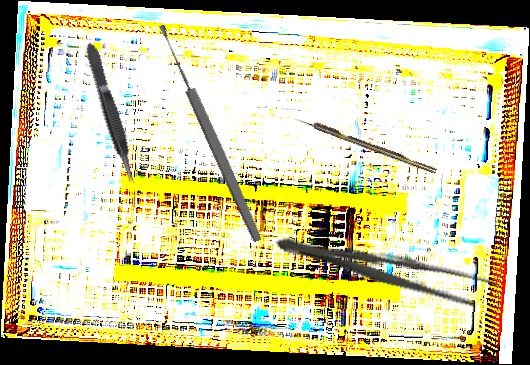Dressing Forceps: (271, 225, 502, 314)
Hook Surgical: (293, 114, 438, 175)
Surgical Spoon: (155, 22, 265, 244)
Tissue Forceps: (83, 40, 140, 187)
